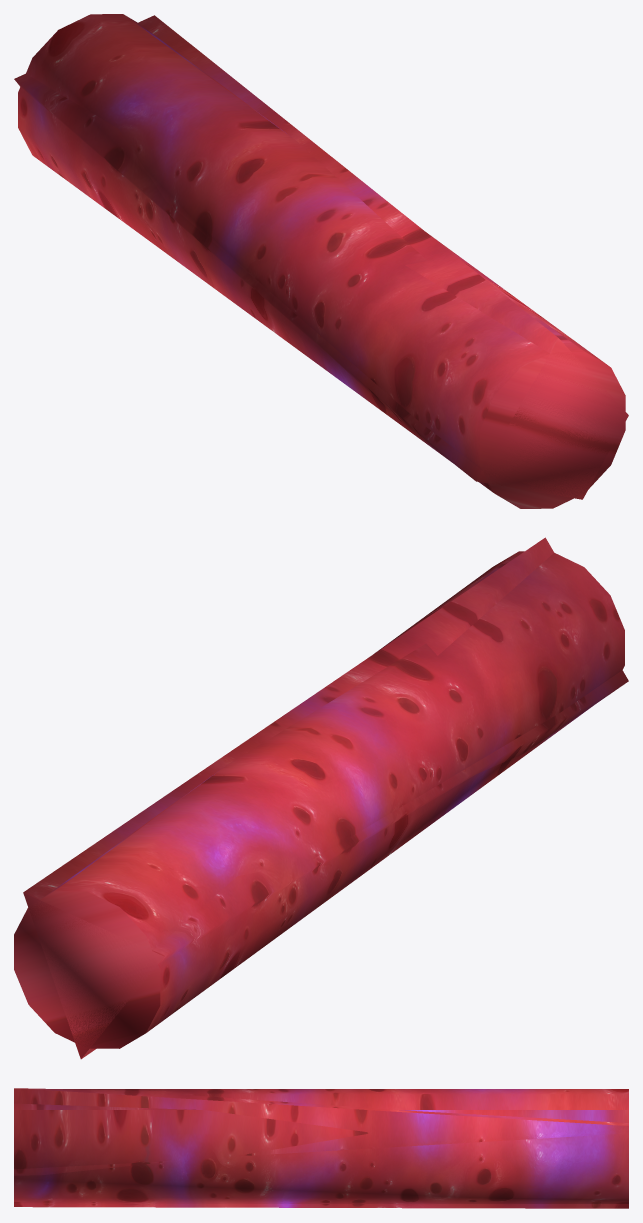
Rendered from arm_basic.fbx.
3 renders of one model, top to bottom at view 1: azimuth 30°, elevation 25°; view 2: azimuth 150°, elevation 25°; view 3: azimuth 270°, elevation 25°, orthographic. The views are drawn at different scales.
Visible parts, largest first — view 1: arm_basic_VIS, arm_basic_COL; view 2: arm_basic_VIS, arm_basic_COL; view 3: arm_basic_VIS, arm_basic_COL.
Boxes of the visible parts, x1,y1,x2,y2 form: arm_basic_VIS: (18, 14, 625, 508); arm_basic_COL: (14, 15, 628, 499); arm_basic_VIS: (14, 551, 624, 1048); arm_basic_COL: (23, 537, 628, 1059); arm_basic_VIS: (14, 1089, 628, 1203); arm_basic_COL: (14, 1088, 628, 1208).
Bounding box in the file's own units: 14.33 × 16.22 × 75.
